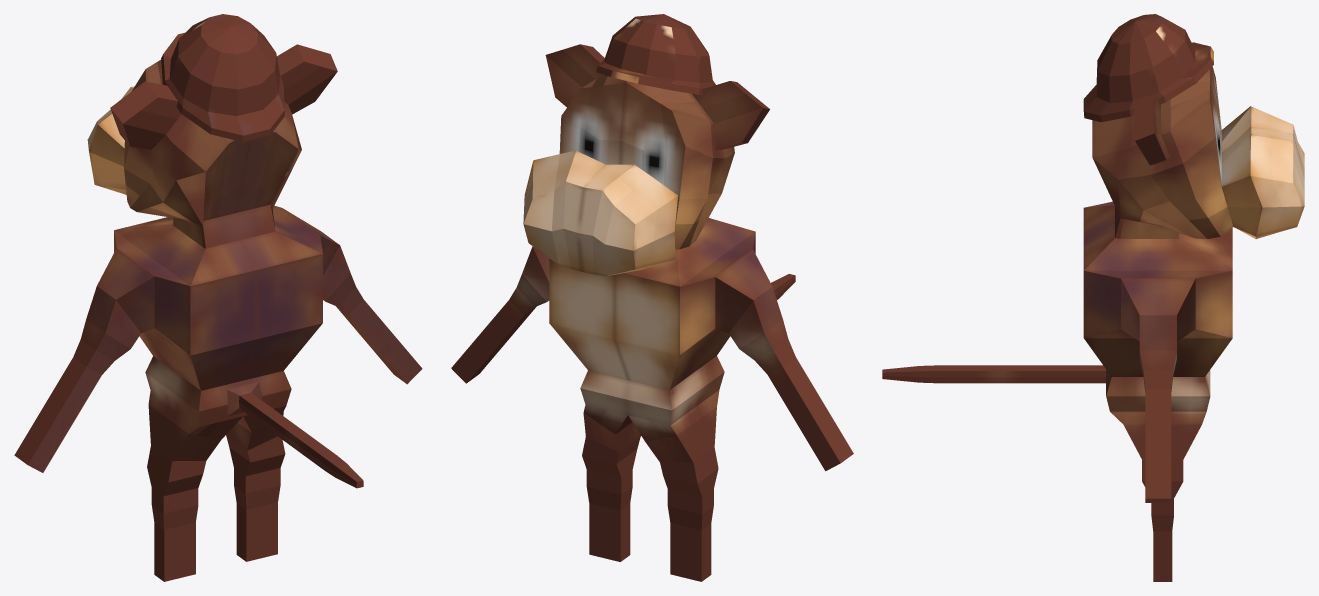
The picture shows the model from 3 angles, left to right: view 1: azimuth 30°, elevation 25°; view 2: azimuth 150°, elevation 25°; view 3: azimuth 270°, elevation 25°; orthographic projection. The views are drawn at different scales.
Parts seen in each view (by area): view 1: cuboid, sphere; view 2: cuboid, sphere; view 3: cuboid, sphere.
Boxes of the visible parts, x1=… form: cuboid: x1=14, y1=44, x2=422, y2=581; sphere: x1=161, y1=14, x2=284, y2=141; cuboid: x1=451, y1=44, x2=853, y2=581; sphere: x1=596, y1=14, x2=715, y2=95; cuboid: x1=882, y1=66, x2=1304, y2=581; sphere: x1=1083, y1=14, x2=1213, y2=122.
Bounding box in the file's own units: 149 × 198 × 142.
Materials: 2 (2 with a texture image).
